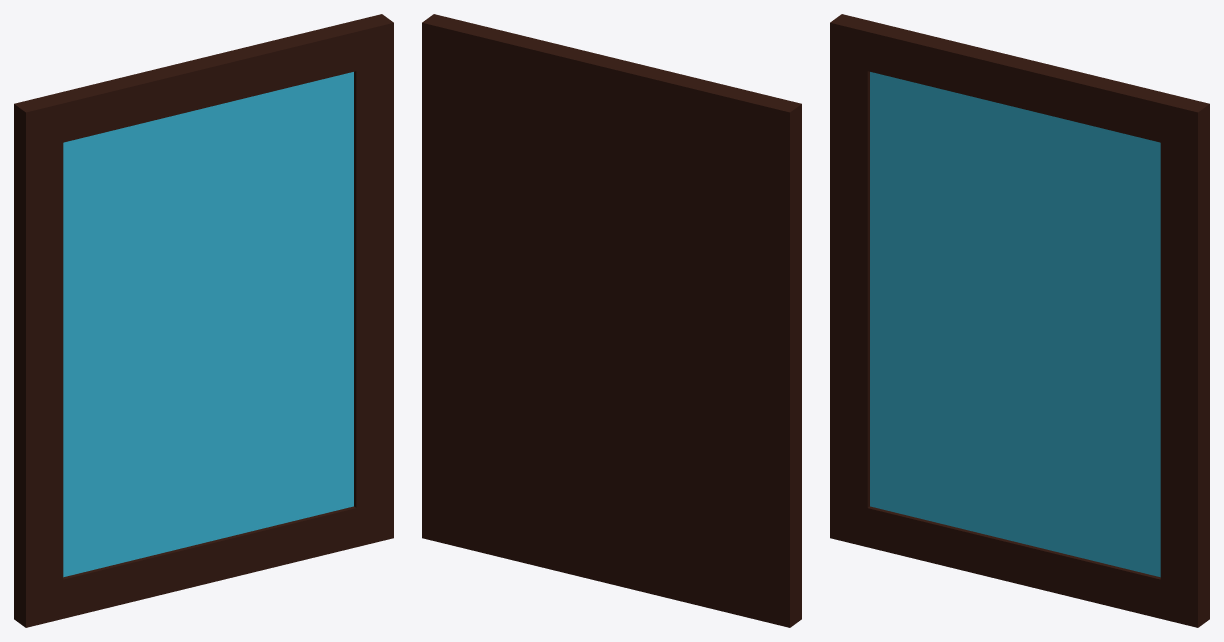
The model's file is MDL_Fake_Mirror_02.fbx.
3 renders of one model, left to right at view 1: azimuth 30°, elevation 25°; view 2: azimuth 150°, elevation 25°; view 3: azimuth 330°, elevation 25°, orthographic.
Visible parts, largest first — view 1: MDL_Fake_Mirror_Glass_01, MDL_Fake_Mirror_Frame_01; view 2: MDL_Fake_Mirror_Frame_01; view 3: MDL_Fake_Mirror_Glass_01, MDL_Fake_Mirror_Frame_01.
Boxes of the visible parts, <box> form: MDL_Fake_Mirror_Glass_01: <box>63,72,353,577</box>; MDL_Fake_Mirror_Frame_01: <box>14,14,393,627</box>; MDL_Fake_Mirror_Frame_01: <box>422,14,801,627</box>; MDL_Fake_Mirror_Glass_01: <box>870,72,1160,577</box>; MDL_Fake_Mirror_Frame_01: <box>830,14,1209,627</box>.
Size of the model in its own units: 93.21 by 125 by 5.22.
